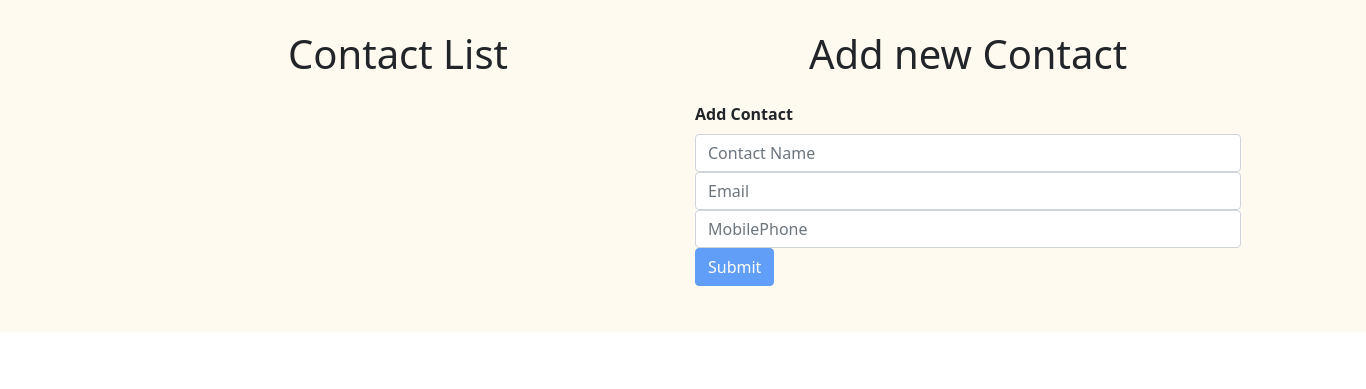
Test: UI Validation › name validation
Type "1235" into the field with test id "name-input" at (968, 153), box x1=695 y1=134 x2=1241 y2=172
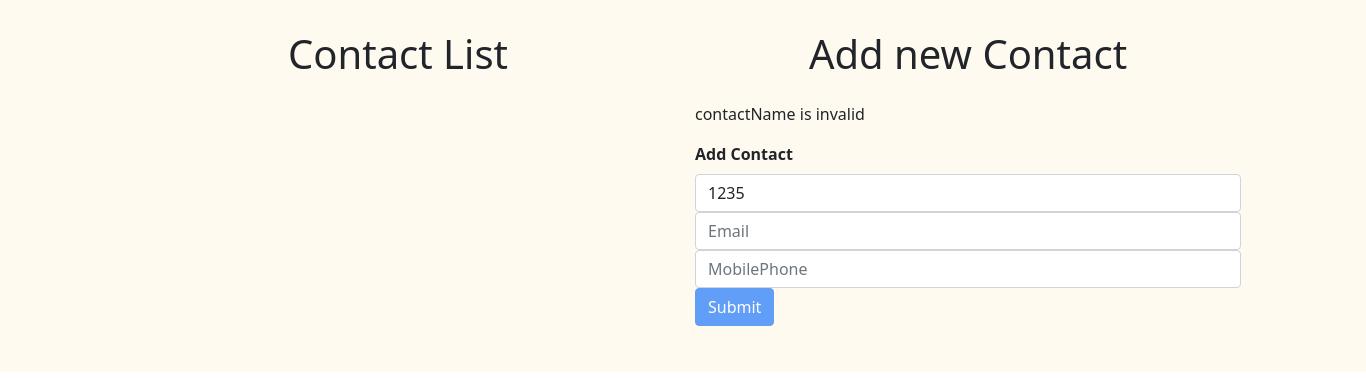
Expected: the text "contactName is invalid" is shown, x1=695 y1=103 x2=865 y2=125
